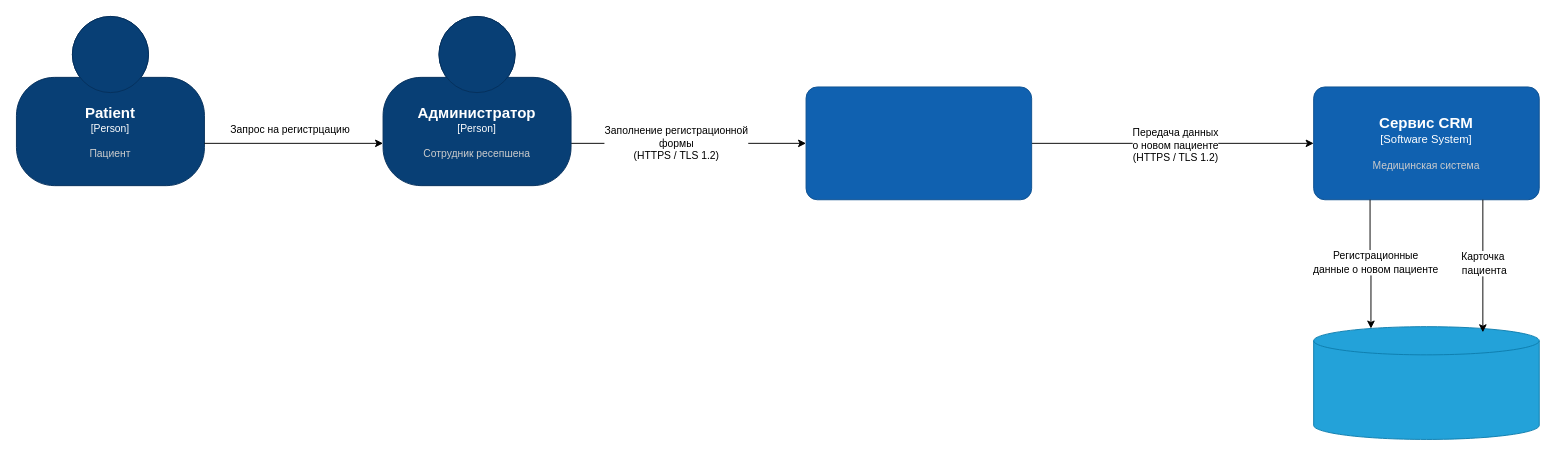
Some shapes in this 1556 by 456 pixel diagram are drawn without their labels. The box of each missing label's shape, as (x1, y1, x2, y2) in pixels:
CRM База данных [Container: Postgres] База данных CRM сервиса: (1313, 326, 1539, 439)
Web приложение [Software System] Web приложение - доступ к CRM системе: (805, 86, 1032, 200)
